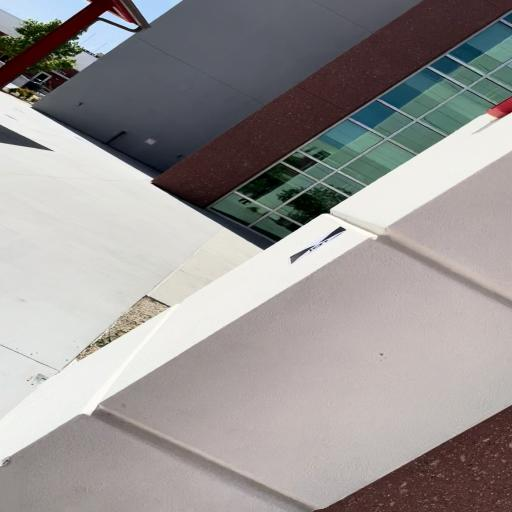target6: (288, 226, 348, 265)
